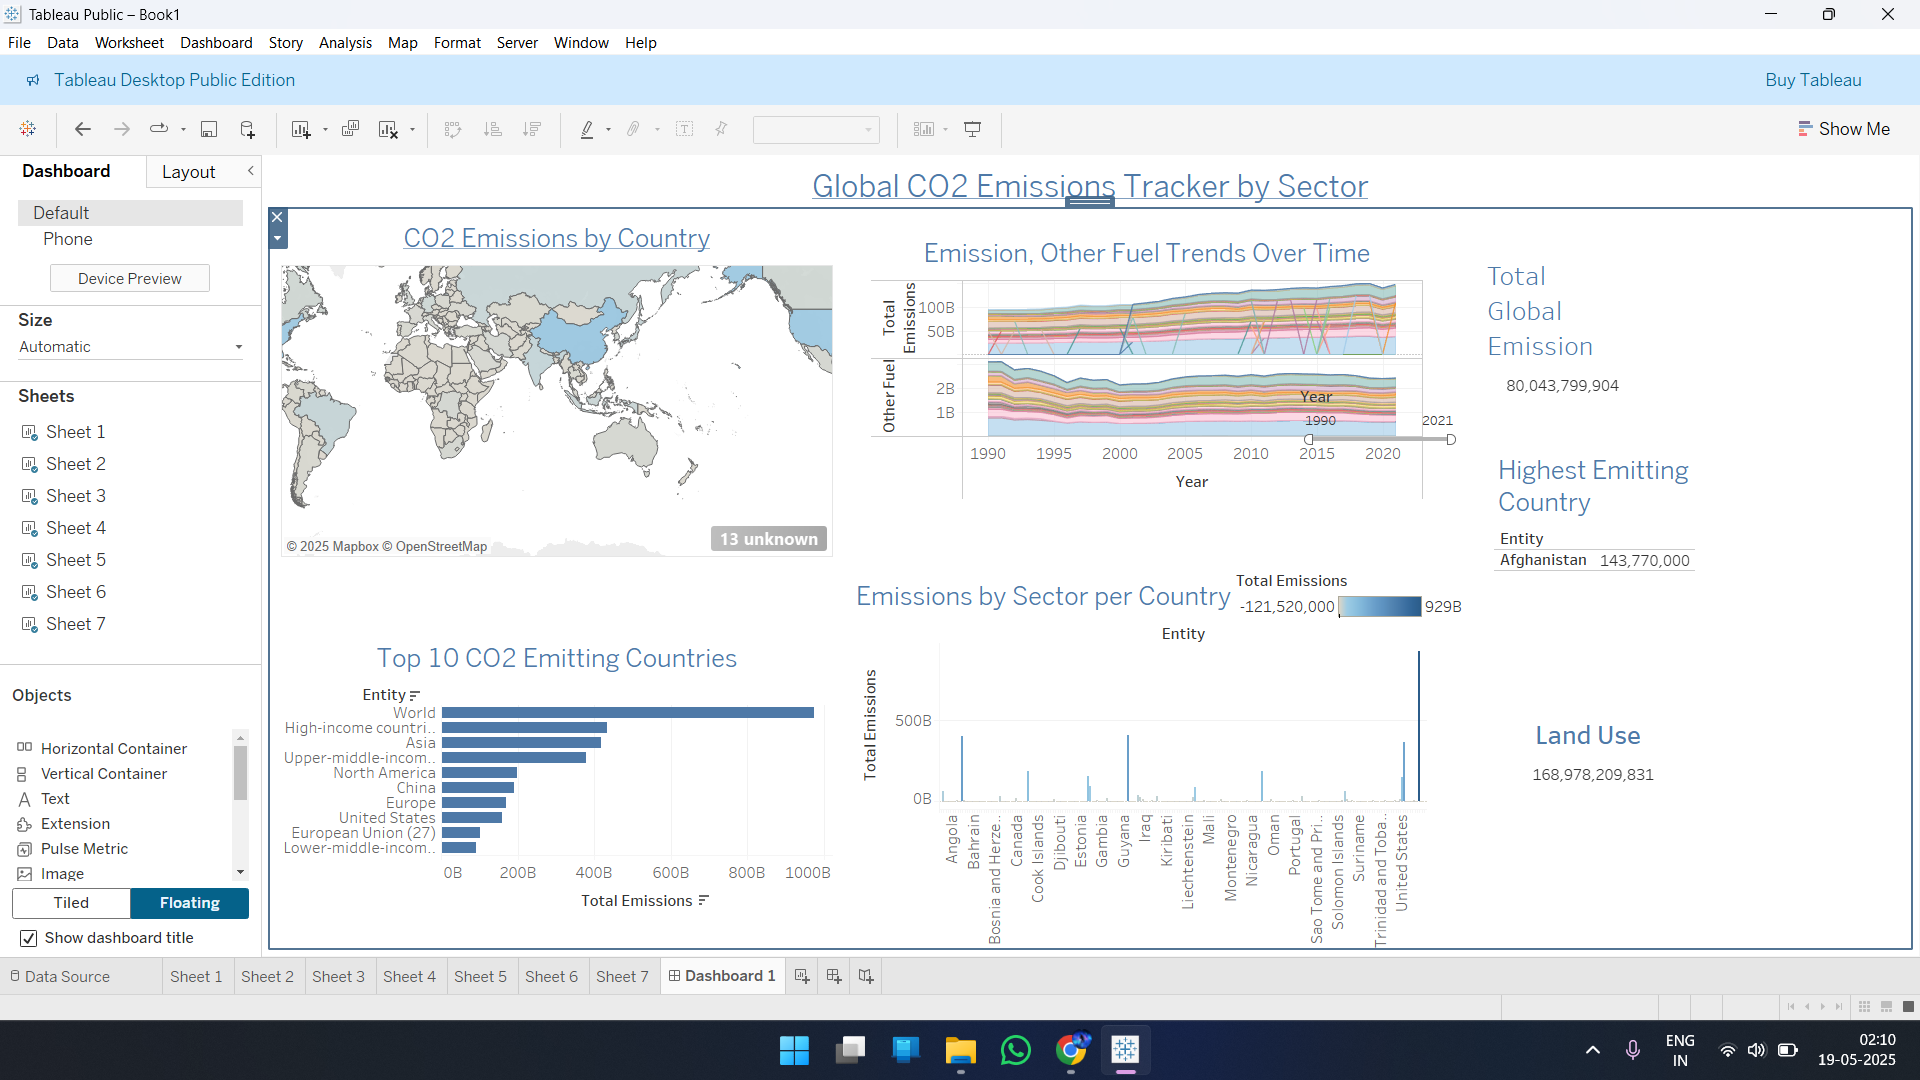

The page's visual inventory and layout, read from the dashboard file:
{"tool":"tableau","page":{"name":"Dashboard 1","canvas":[1000,1000],"units":"permille","ordinal":0},"visuals":[{"type":"title","box":[4.8,10,990.3,57.4]},{"type":"worksheet","title":"Sheet 1","mark":"Automatic","box":[11.5,78.7,333.1,423.2]},{"type":"worksheet","title":"Sheet 3","mark":"Area","rows":["total_emissions","other_fuel"],"cols":["year"],"box":[367.5,97.4,333.1,333.3]},{"type":"worksheet","title":"Sheet 5","mark":"Automatic","box":[736.9,123.6,169,231]},{"type":"filter","title":"Sheet 5","param":"[federated.0ivvtyh13wlapn1dmde050ifd8d6].[none:year:qk]","box":[626.4,288.4,96.6,81.2]},{"type":"worksheet","title":"Sheet 6","mark":"Automatic","rows":["entity"],"box":[743.5,368.3,156.9,199.8]},{"type":"legend","title":"Sheet 4","param":"[federated.0ivvtyh13wlapn1dmde050ifd8d6].[sum:total_emissions:qk]","box":[587.8,518.1,139.4,72.4]},{"type":"worksheet","title":"Sheet 4","mark":"Automatic","rows":["total_emissions"],"cols":["entity"],"box":[356.1,525.6,347,465.7]},{"type":"worksheet","title":"Sheet 2","mark":"Automatic","rows":["entity"],"cols":["total_emissions"],"box":[11.5,603,333.1,349.6]},{"type":"worksheet","title":"Sheet 7","mark":"Automatic","box":[758,696.6,133.4,146.1]}]}

Visuals, with their boxes on the dashboard's canvas, which has no fixed pixel size, in thousandths of its width and height (x1, y1, x2, y2). These are canvas units, not pixel positions in the 1920x1080 screenshot, which may show the page scaled, cropped or inside an application window:
title: l=5, t=10, r=995, b=67
"Sheet 1" worksheet: l=12, t=79, r=345, b=502
"Sheet 3" worksheet (Area marks): l=368, t=97, r=701, b=431
"Sheet 5" worksheet: l=737, t=124, r=906, b=355
"Sheet 5" filter: l=626, t=288, r=723, b=370
"Sheet 6" worksheet: l=744, t=368, r=900, b=568
"Sheet 4" legend: l=588, t=518, r=727, b=590
"Sheet 4" worksheet: l=356, t=526, r=703, b=991
"Sheet 2" worksheet: l=12, t=603, r=345, b=953
"Sheet 7" worksheet: l=758, t=697, r=891, b=843
